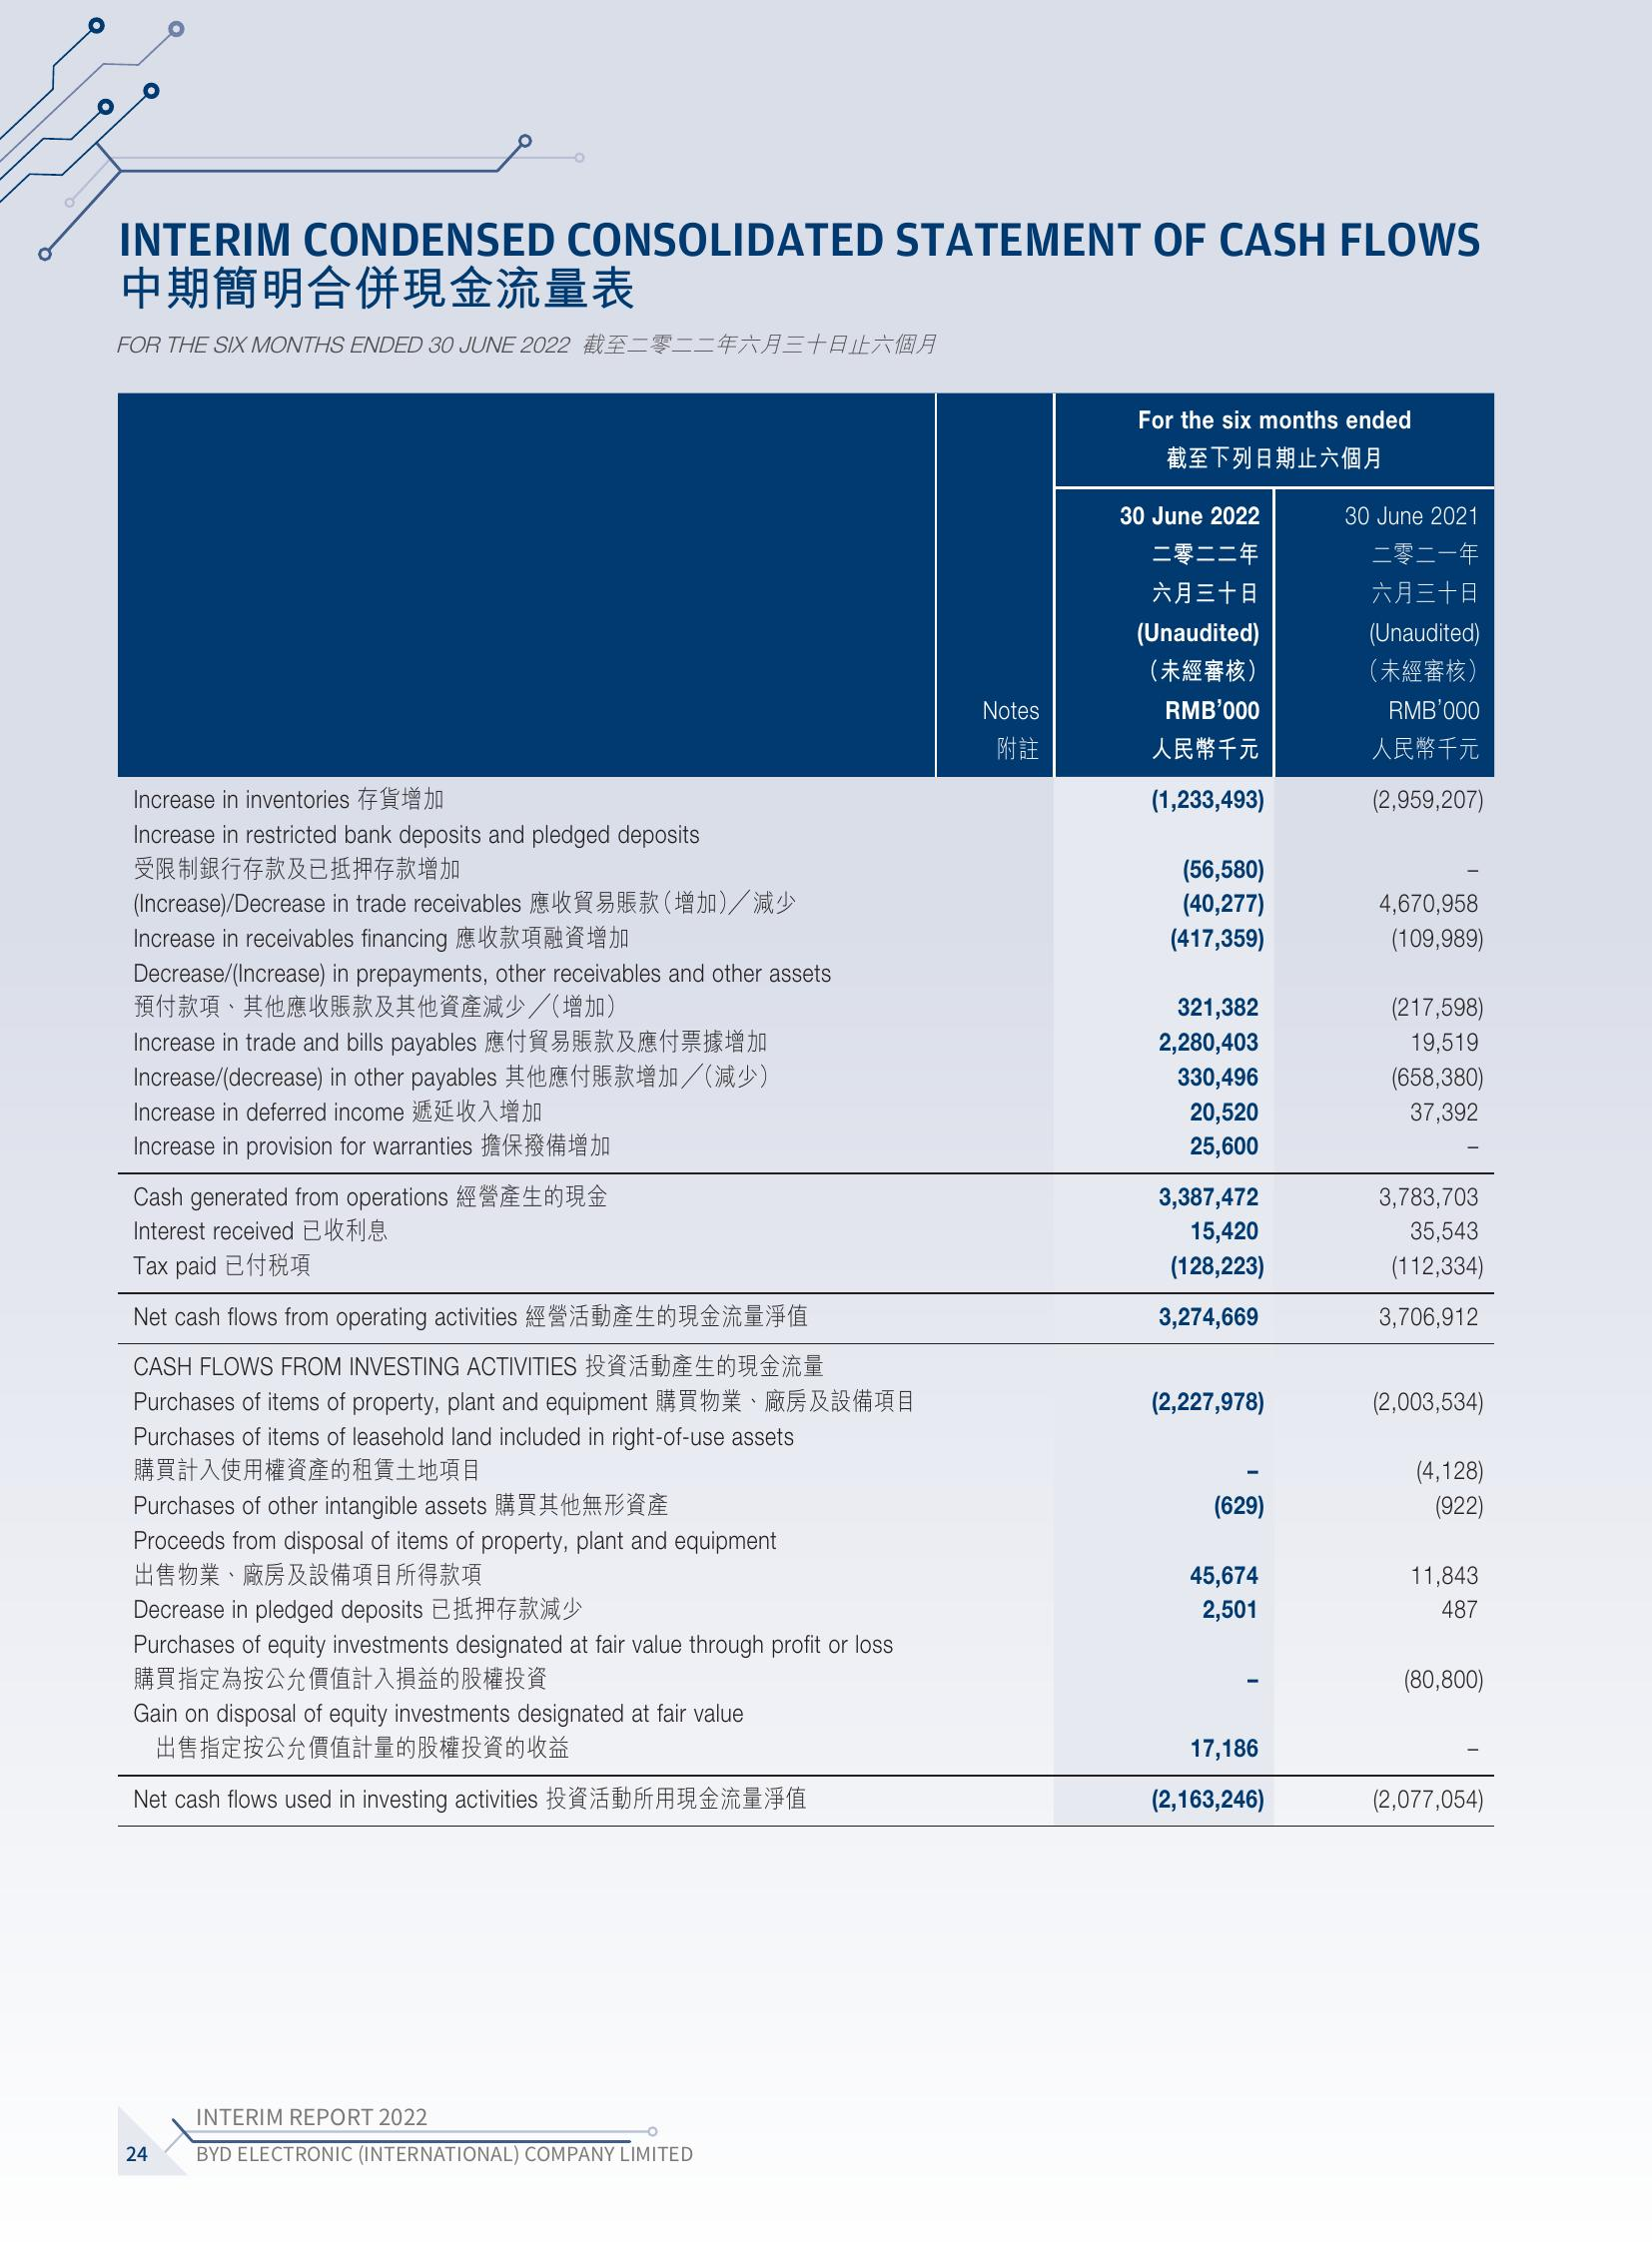Footer: (0, 2084, 1652, 2242)
Header: (0, 0, 1652, 197)
Table: (70, 367, 1542, 1840)
